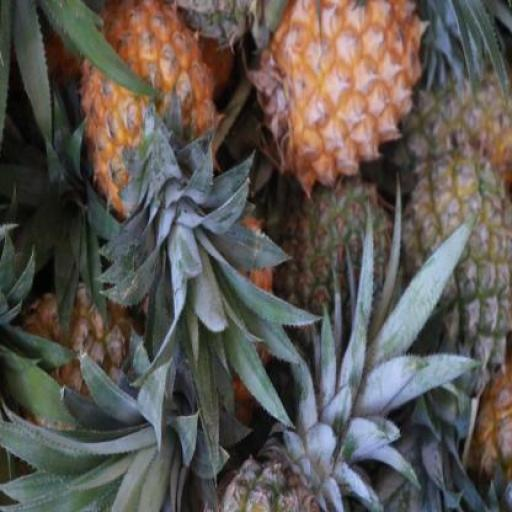------------------------------: (400, 150, 511, 394)
Pineapple - v8 v1: (255, 0, 426, 199), (80, 0, 218, 219)
